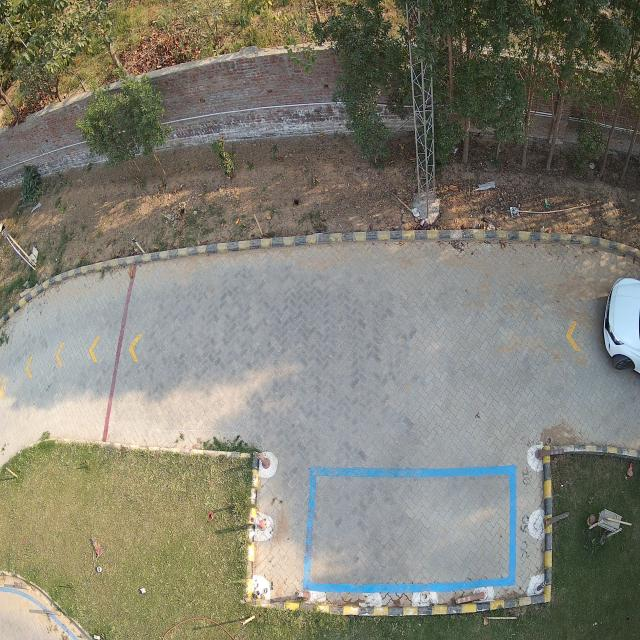car: (602, 278, 640, 378)
